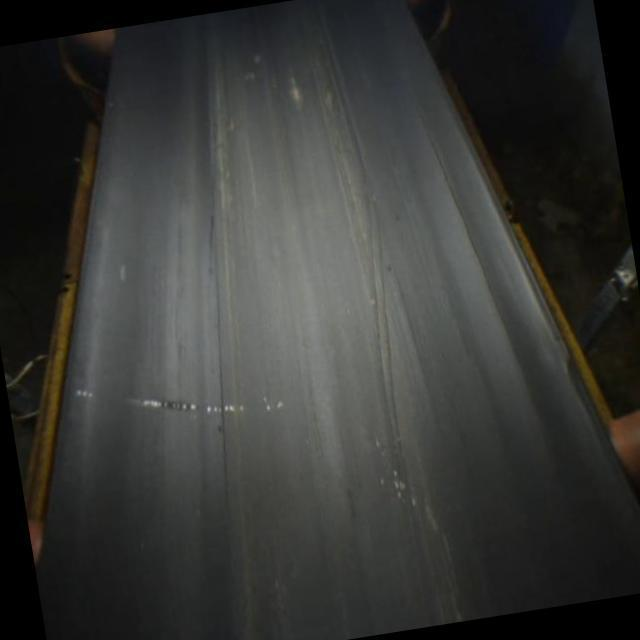Tear: (306, 44, 422, 509), (210, 259, 234, 506), (191, 179, 234, 269)
